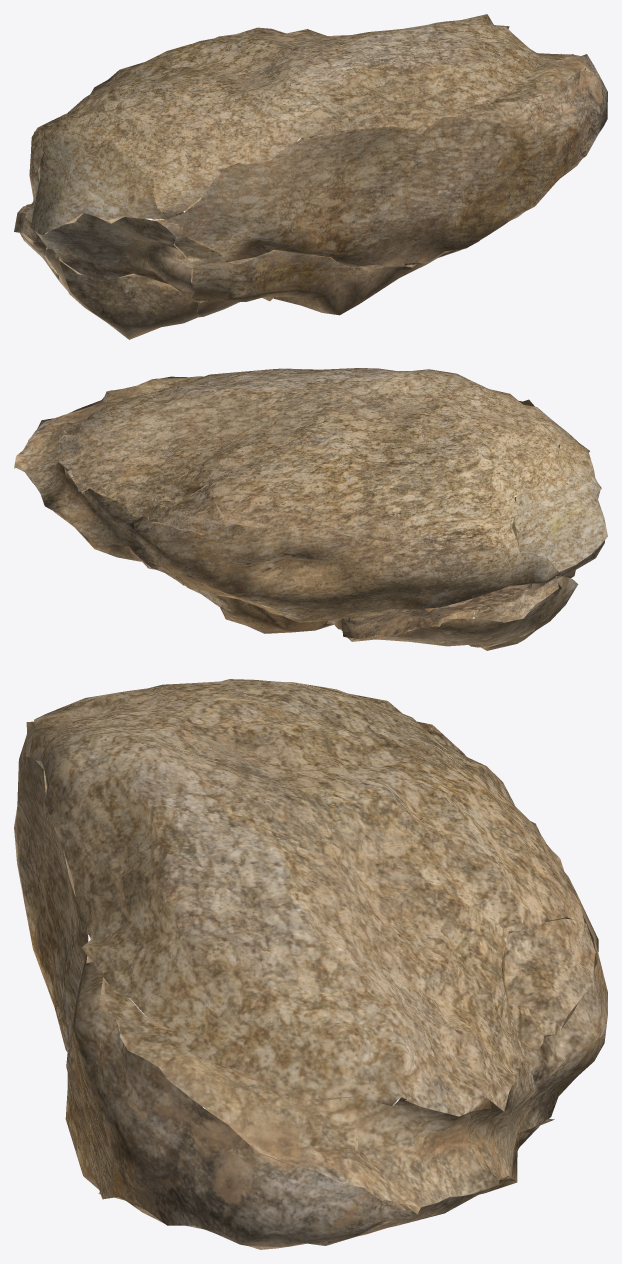
Rendered from namaqualand_boulder_05.glb.
The picture shows the model from 3 angles, top to bottom: view 1: azimuth 30°, elevation 25°; view 2: azimuth 150°, elevation 25°; view 3: azimuth 270°, elevation 25°; orthographic projection. The views are drawn at different scales.
Parts seen in each view (by area): view 1: namaqualand_boulder_05; view 2: namaqualand_boulder_05; view 3: namaqualand_boulder_05.
Boxes of the visible parts, left/top/right/bottom form: namaqualand_boulder_05: left=14, top=14, right=607, bottom=339; namaqualand_boulder_05: left=14, top=368, right=607, bottom=650; namaqualand_boulder_05: left=14, top=679, right=607, bottom=1249.
Size of the model in its own units: 1.36 by 0.5261 by 0.7392.
Materials: 1 (1 with a texture image).
